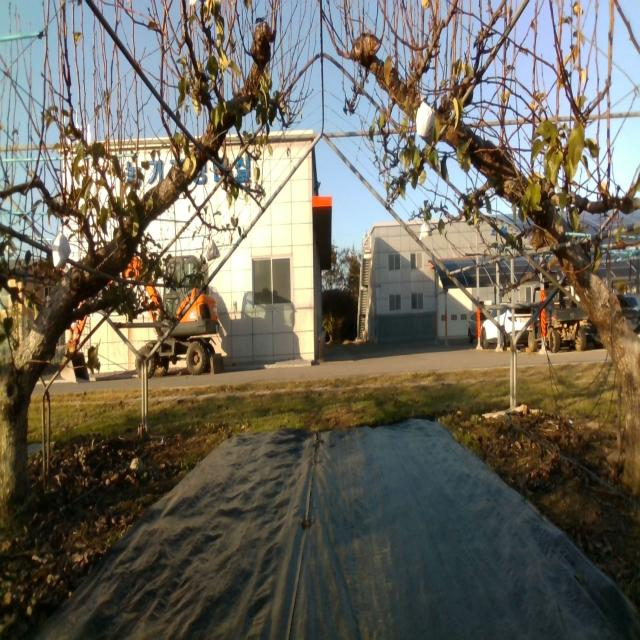pearbags: (415, 102, 435, 147), (52, 226, 72, 270), (206, 238, 220, 260), (419, 220, 433, 242)
